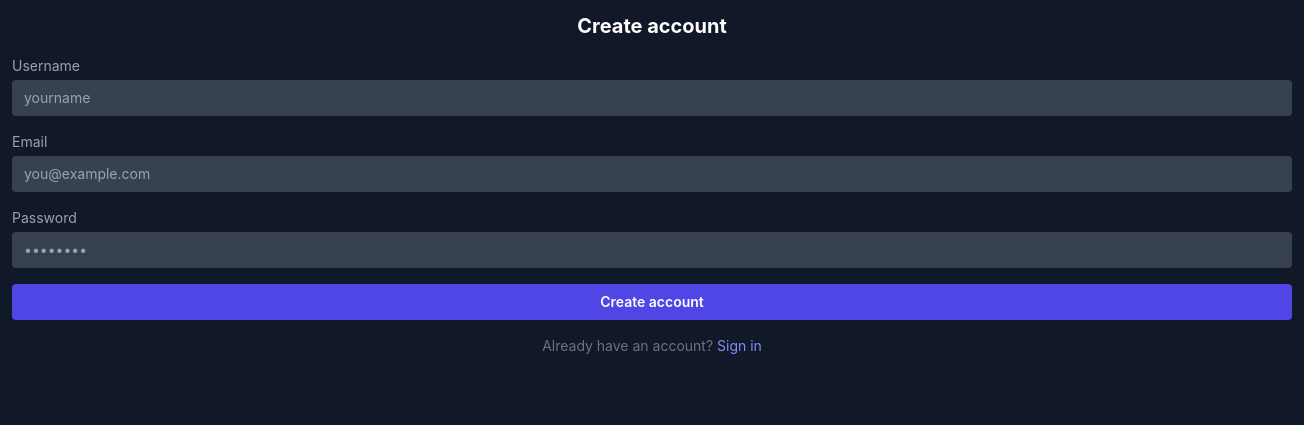
RegisterForm › shows error when signUp fails
The image size is (1304, 425).
Type "testuser" into the field with test id "username-input".
click(652, 98); type("testuser")  # box [12,80,1292,116]
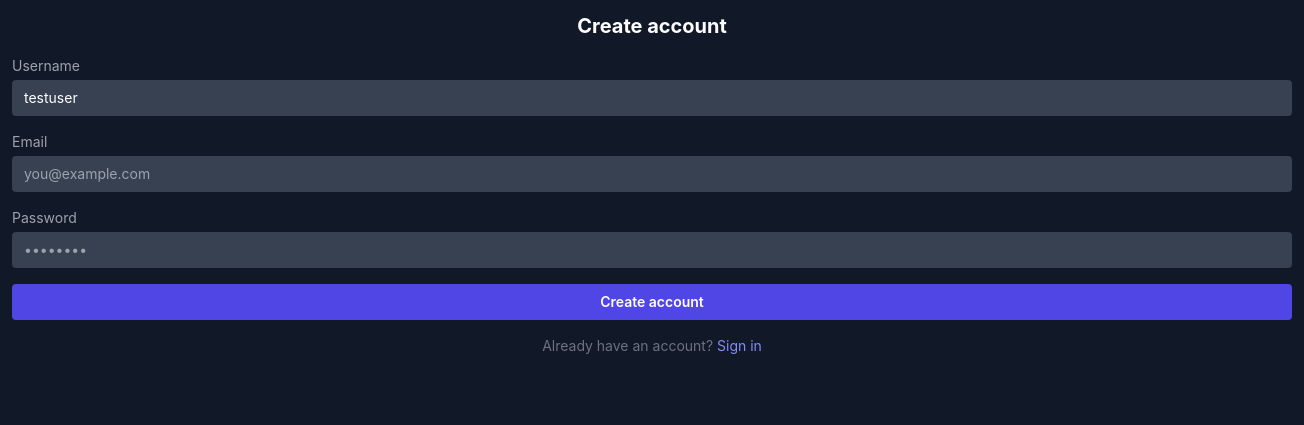
Type "dup@test.com" into the field with test id "email-input".
click(652, 174); type("dup@test.com")  # box [12,156,1292,192]
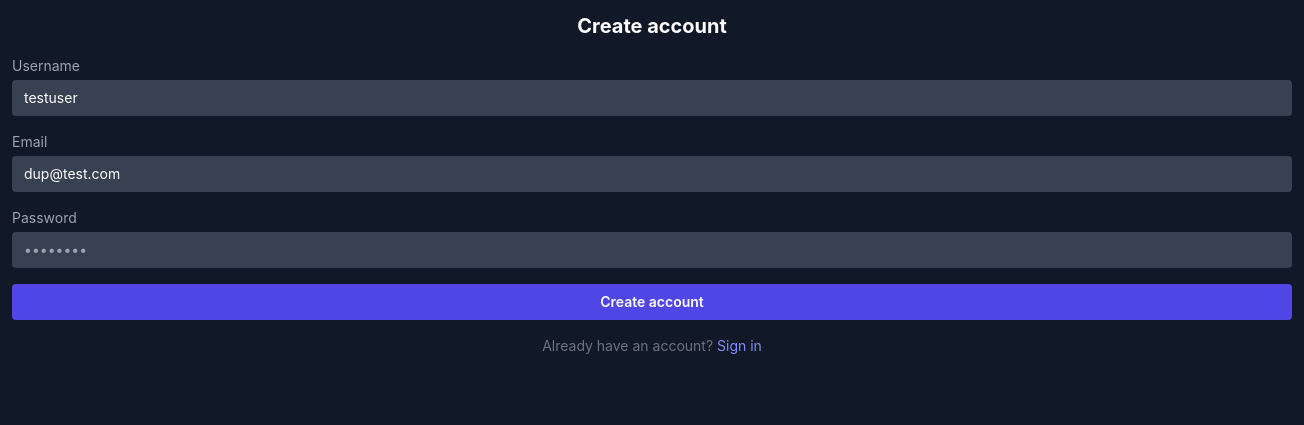
Type "password123" into the password field with test id "password-input".
click(652, 250); type("password123")  # box [12,232,1292,268]
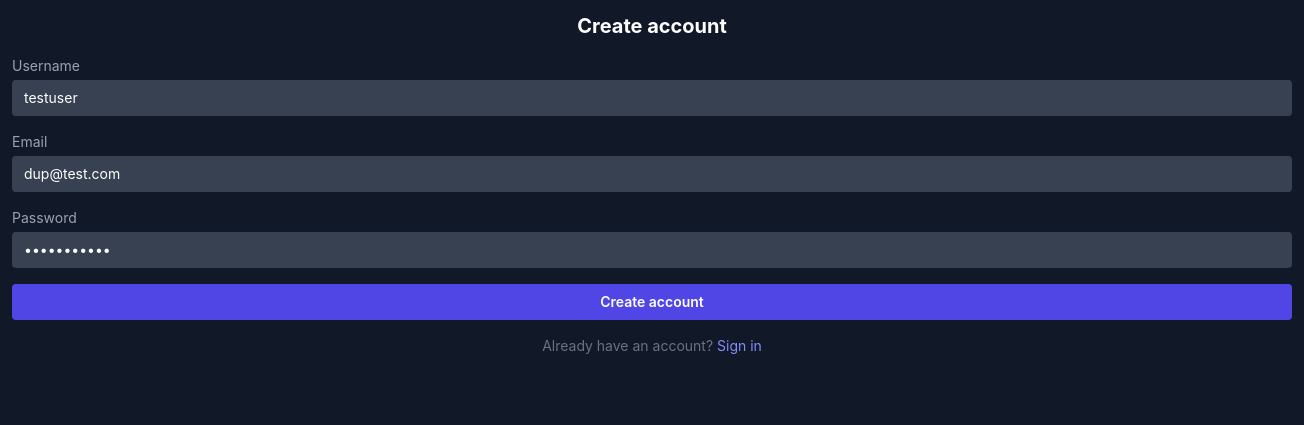
Click the button with test id "submit-btn".
click(652, 302)  # box [12,284,1292,320]
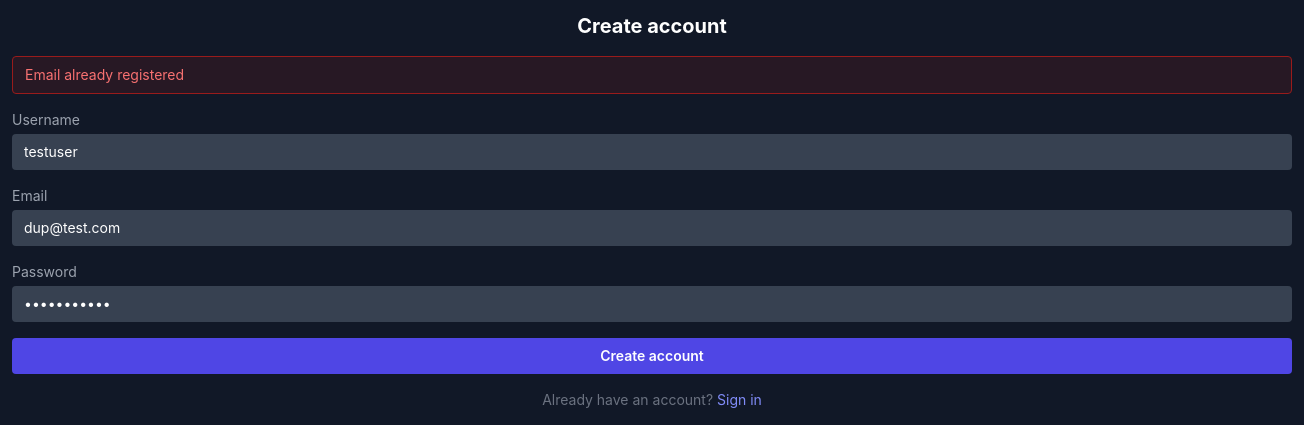
Expected: the message reads "Email already registered", [25,66,184,83]
